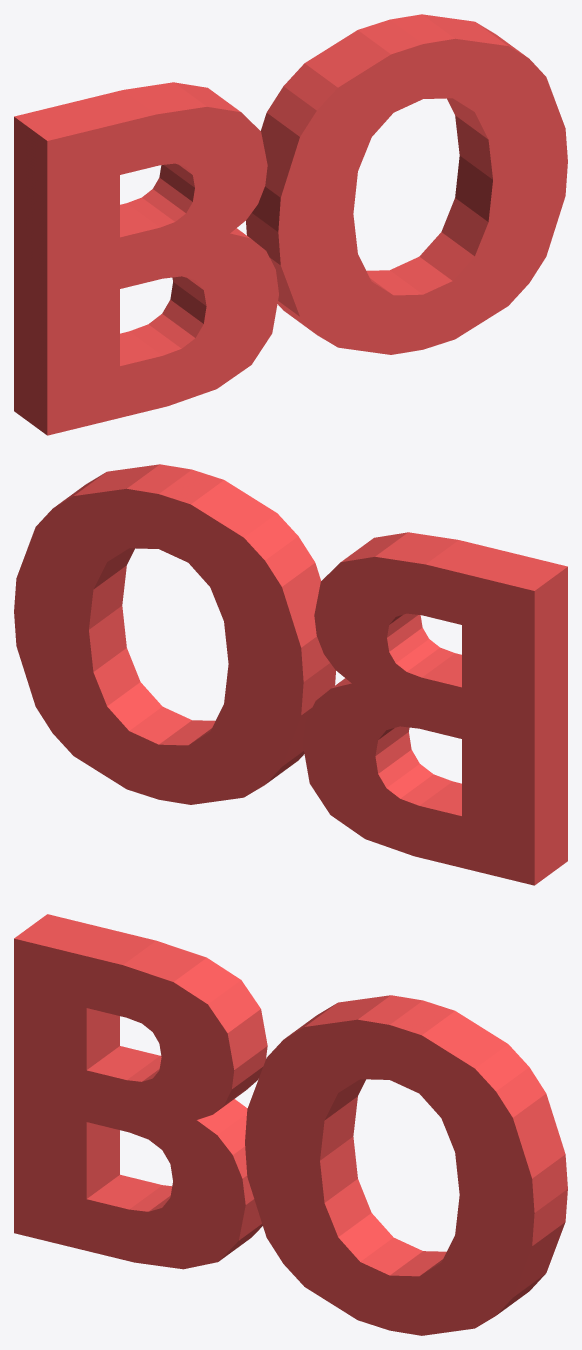
The model's file is suku_besar_bo.glb.
3 renders of one model, top to bottom at view 1: azimuth 30°, elevation 25°; view 2: azimuth 150°, elevation 25°; view 3: azimuth 330°, elevation 25°, orthographic.
Visible parts, largest first — view 1: geometry_0; view 2: geometry_0; view 3: geometry_0.
Part boxes in pixels (box(x1,y1,x2,y2)): geometry_0: box(14, 14, 567, 435); geometry_0: box(14, 464, 567, 885); geometry_0: box(14, 914, 567, 1335).
Bounding box in the file's own units: 13.48 × 7.56 × 1.5.
